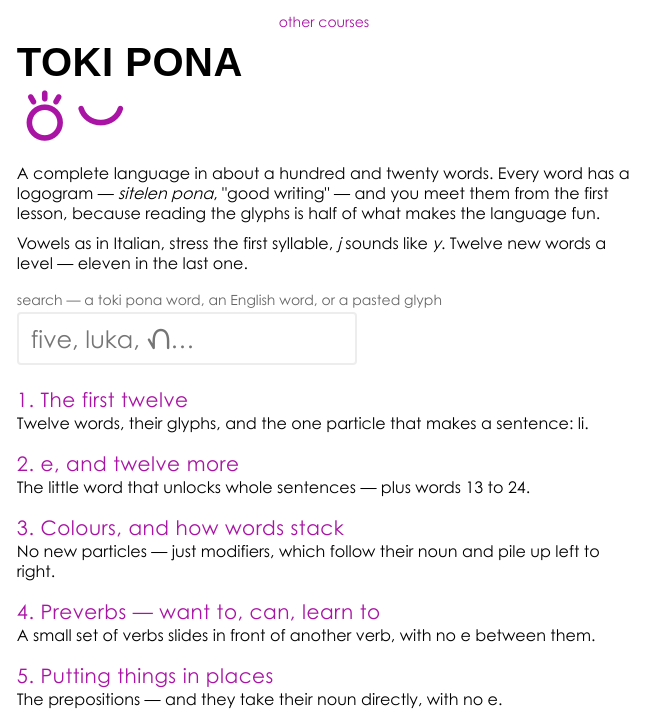
it: toki pona › a query matching nothing says so, not silence
This screenshot has width=646, height=727.
In the field labelled "search": (187, 338) [17, 312, 357, 365], type "zzzzzz"
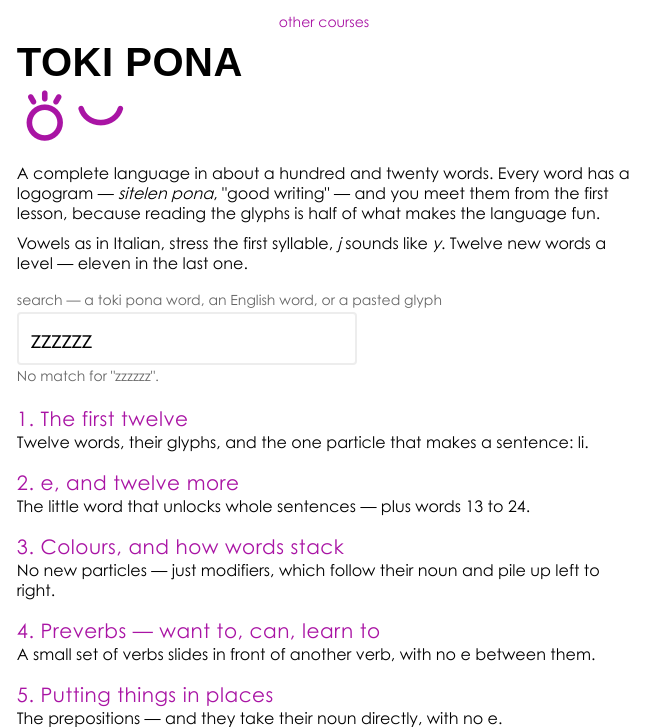
Check: the text "No match for \"zzzzzz\"." is shown, box [17, 367, 159, 384]
